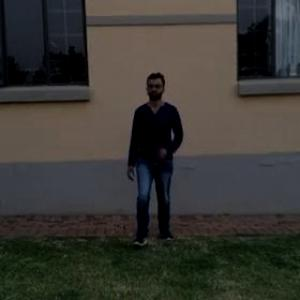follow: (128, 70, 181, 241)
